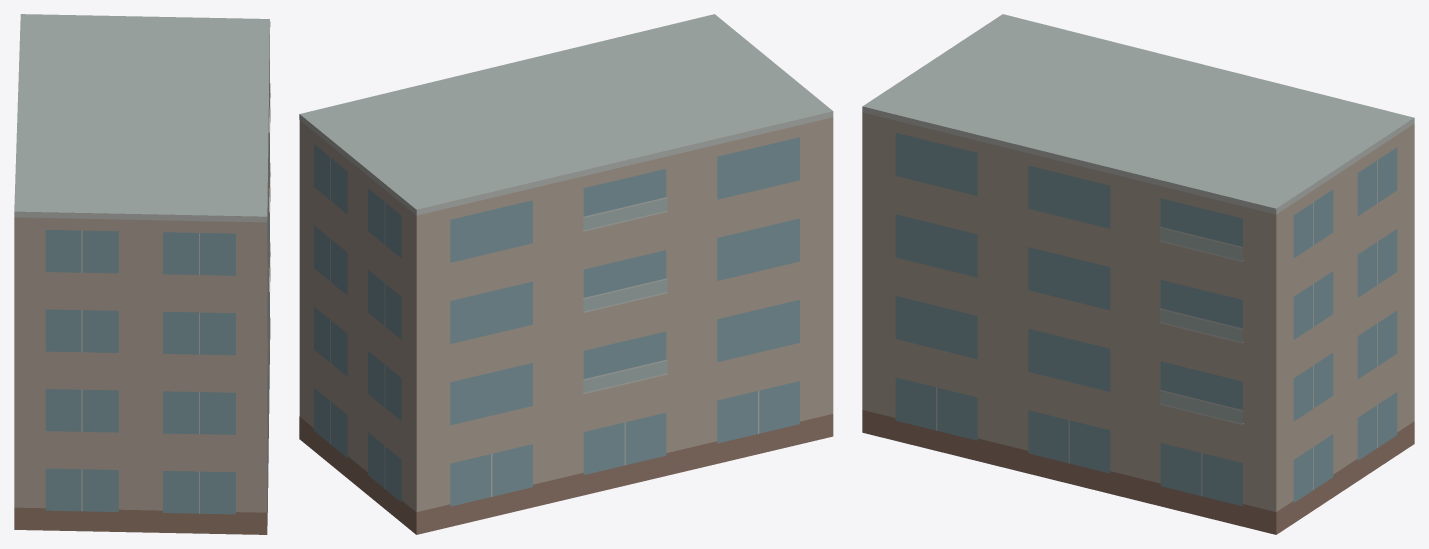
File: survey-upis-32773029.glb
3 views of the same model, side by side, from view 1: azimuth 30°, elevation 25°; view 2: azimuth 150°, elevation 25°; view 3: azimuth 270°, elevation 25° (orthographic). The views are drawn at different scales.
Parts seen in each view (by area): view 1: survey-upis-32773029.tmp; view 2: survey-upis-32773029.tmp; view 3: survey-upis-32773029.tmp.
Part boxes in pixels (x1,y1,x2,y2): survey-upis-32773029.tmp: [14, 14, 270, 534]; survey-upis-32773029.tmp: [299, 14, 833, 534]; survey-upis-32773029.tmp: [862, 14, 1414, 534].
Size of the model in its own units: 17.16 by 13.4 by 20.56.
